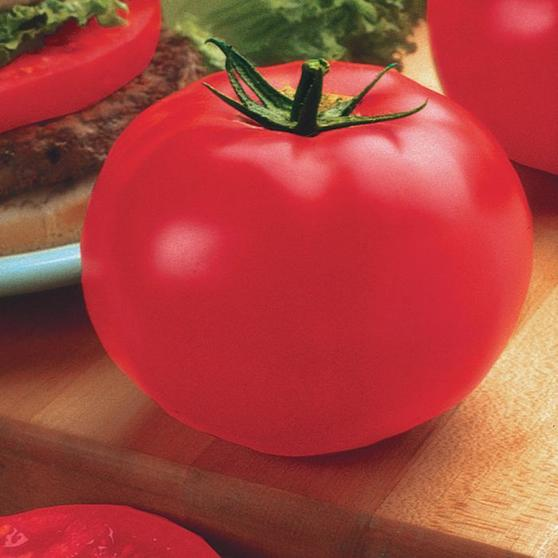tomato: (86, 57, 535, 451)
